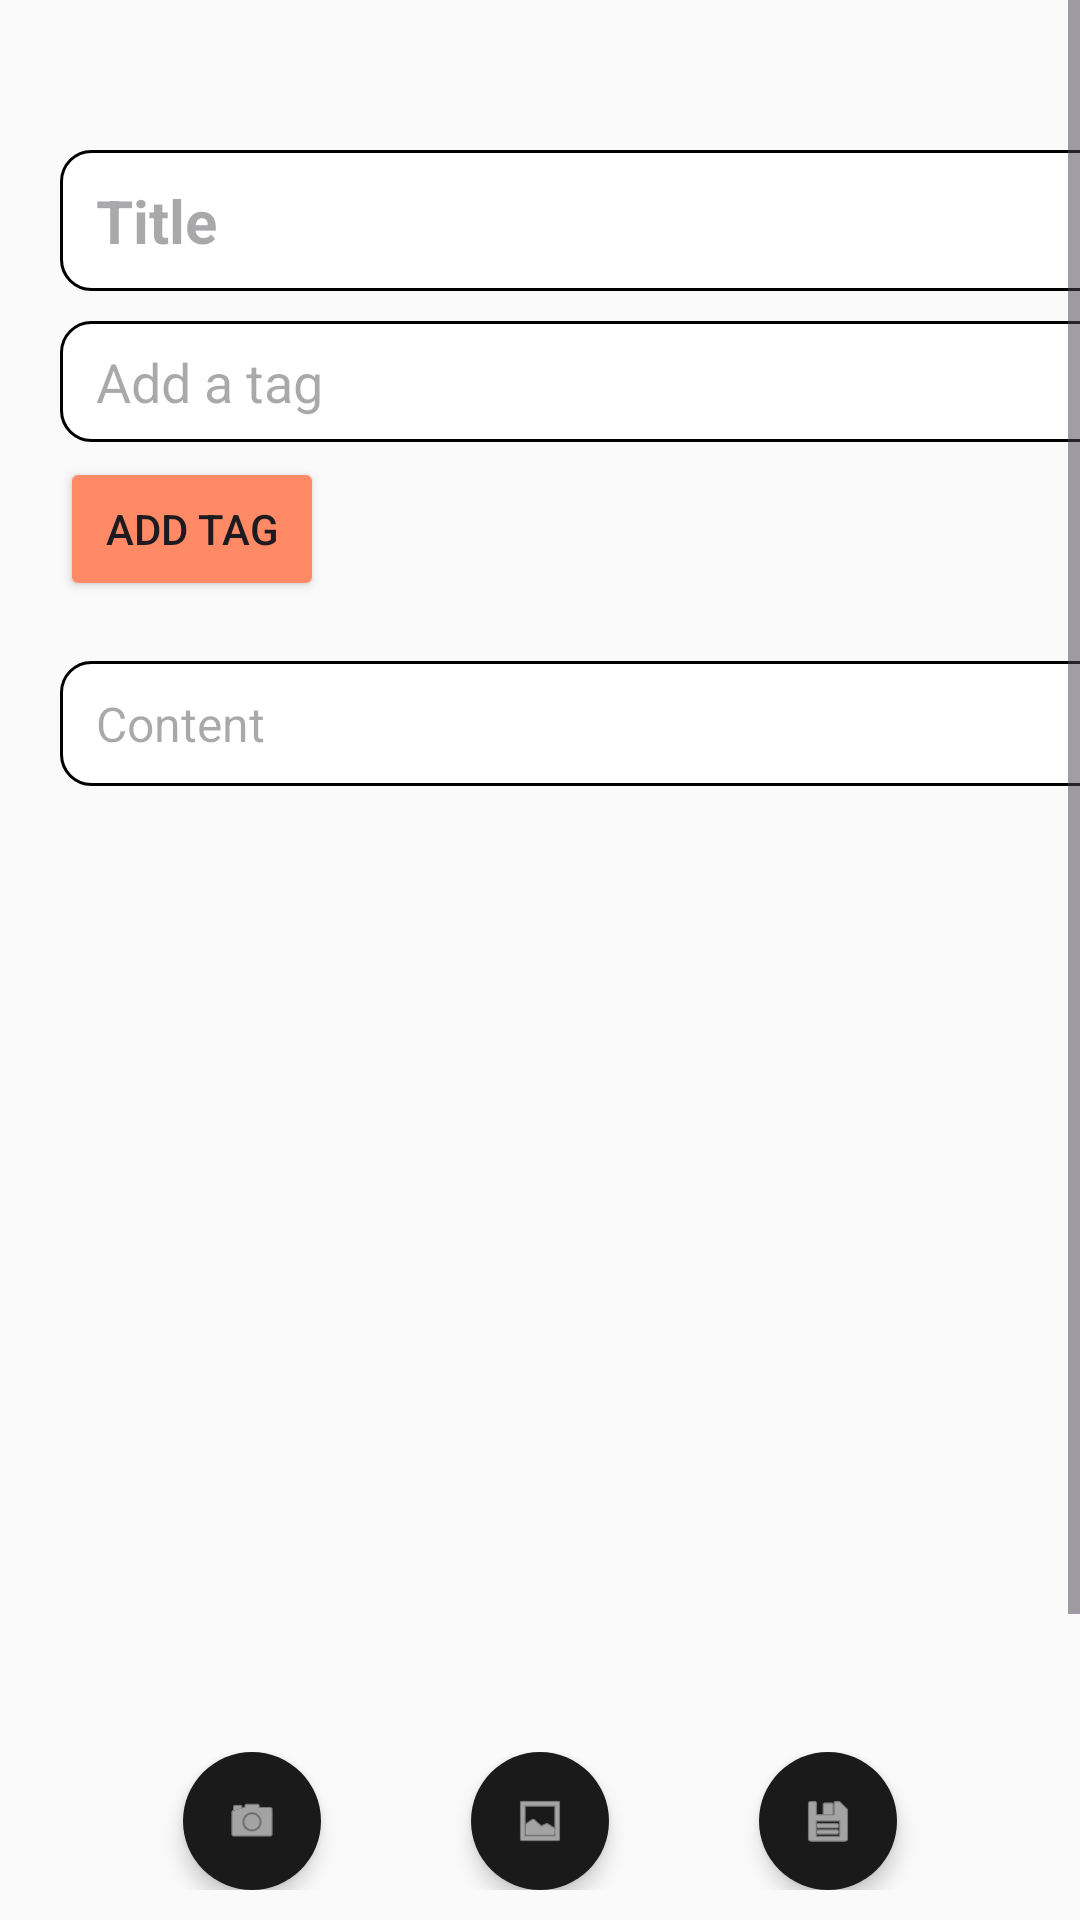

Where icons sit on this 1080w x 1920h app screen, as rect(x1, y1, x2, y2):
camera: rect(231, 1804, 273, 1837)
gallery: rect(520, 1801, 560, 1841)
save: rect(808, 1801, 848, 1842)
